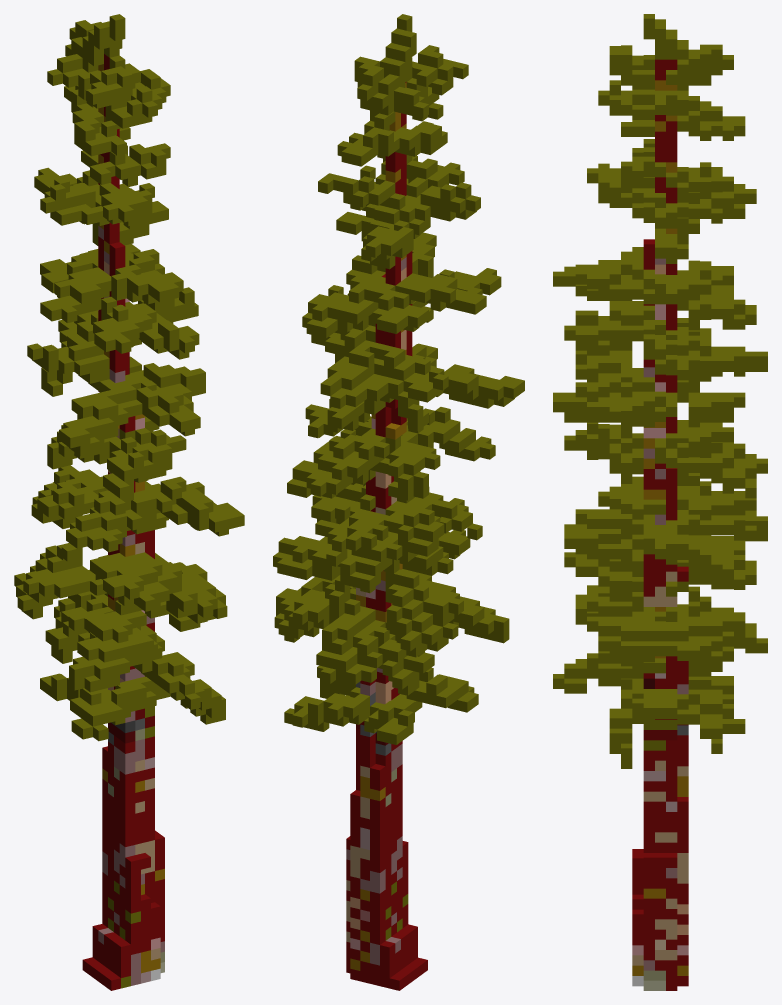
The model's file is sequoia_redwood_tree_voxel.glb.
The picture shows the model from 3 angles, left to right: view 1: azimuth 30°, elevation 25°; view 2: azimuth 150°, elevation 25°; view 3: azimuth 270°, elevation 25°; orthographic projection.
Visible parts, largest first — view 1: Geode; view 2: Geode; view 3: Geode.
Boxes of the visible parts, x1,y1,x2,y2 form: Geode: (14, 14, 244, 990); Geode: (273, 14, 524, 990); Geode: (553, 14, 767, 990).
Size of the model in its own units: 19 by 93 by 19.
